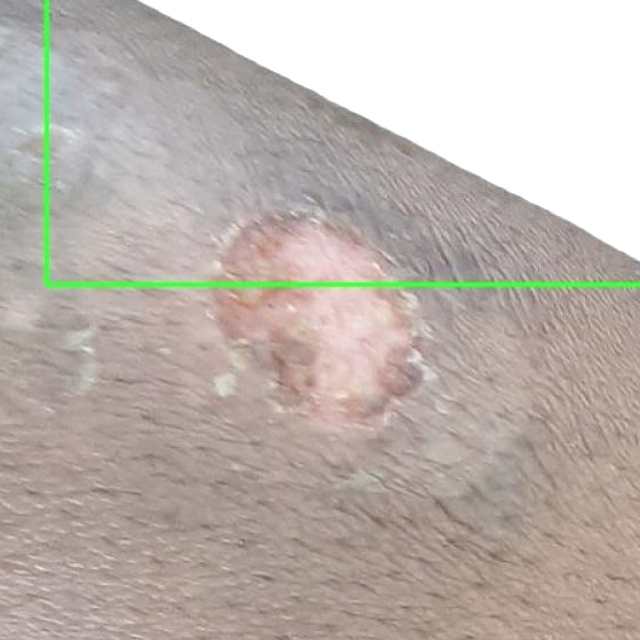Contact Dermatitis: (46, 0, 639, 284)
